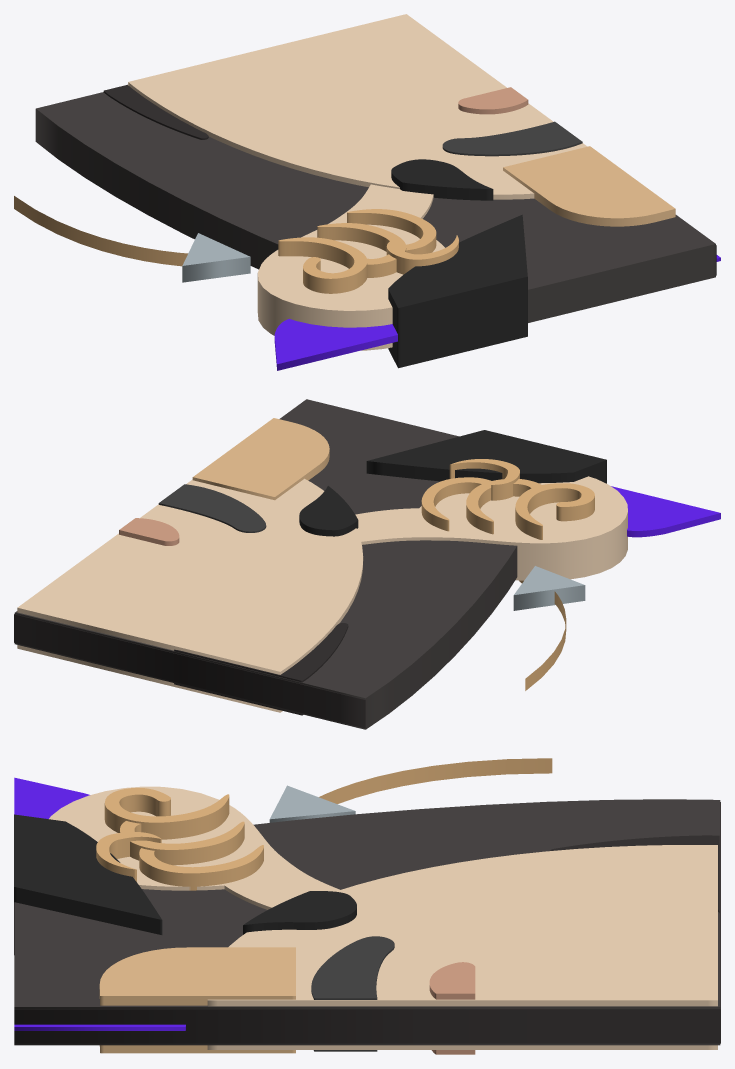
The model's file is emoji_u1f9cf_1f3fb_200d_2640.glb.
3 renders of one model, top to bottom at view 1: azimuth 30°, elevation 25°; view 2: azimuth 150°, elevation 25°; view 3: azimuth 270°, elevation 25°, orthographic. The views are drawn at different scales.
Parts seen in each view (by area): view 1: emoji_u1f9cf_1f3fb_200d_2640; view 2: emoji_u1f9cf_1f3fb_200d_2640; view 3: emoji_u1f9cf_1f3fb_200d_2640.
Part boxes in pixels (bbox=[...]): emoji_u1f9cf_1f3fb_200d_2640: bbox=[14, 14, 720, 370]; emoji_u1f9cf_1f3fb_200d_2640: bbox=[14, 399, 720, 729]; emoji_u1f9cf_1f3fb_200d_2640: bbox=[14, 758, 720, 1054].
Size of the model in its own units: 0.0296 by 0.0044 by 0.0336.
